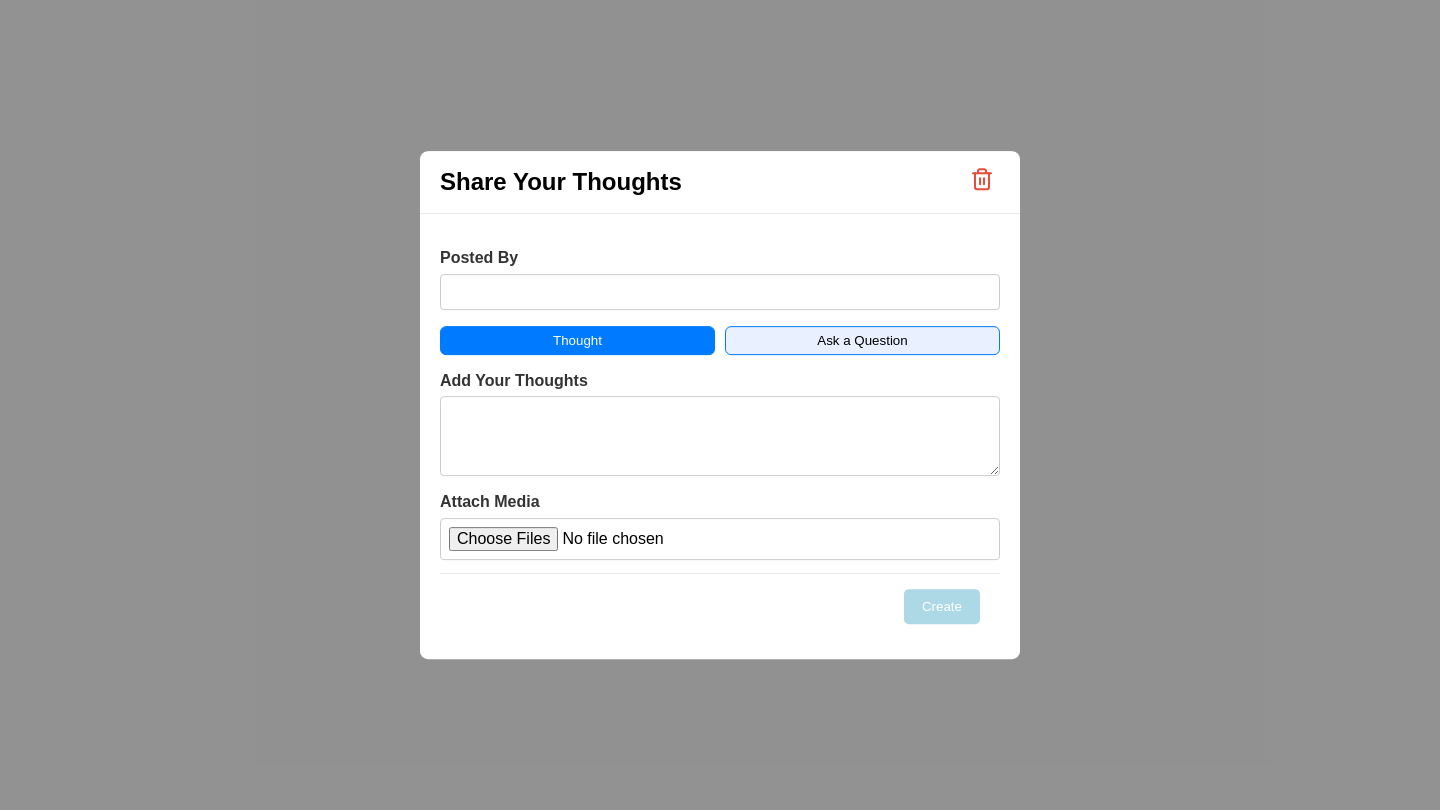
Test: PostModal Component › shows validation error when invalid name is entered
In the field labelled "Posted By": (720, 292) [440,274,1000,310], type "!!!!"
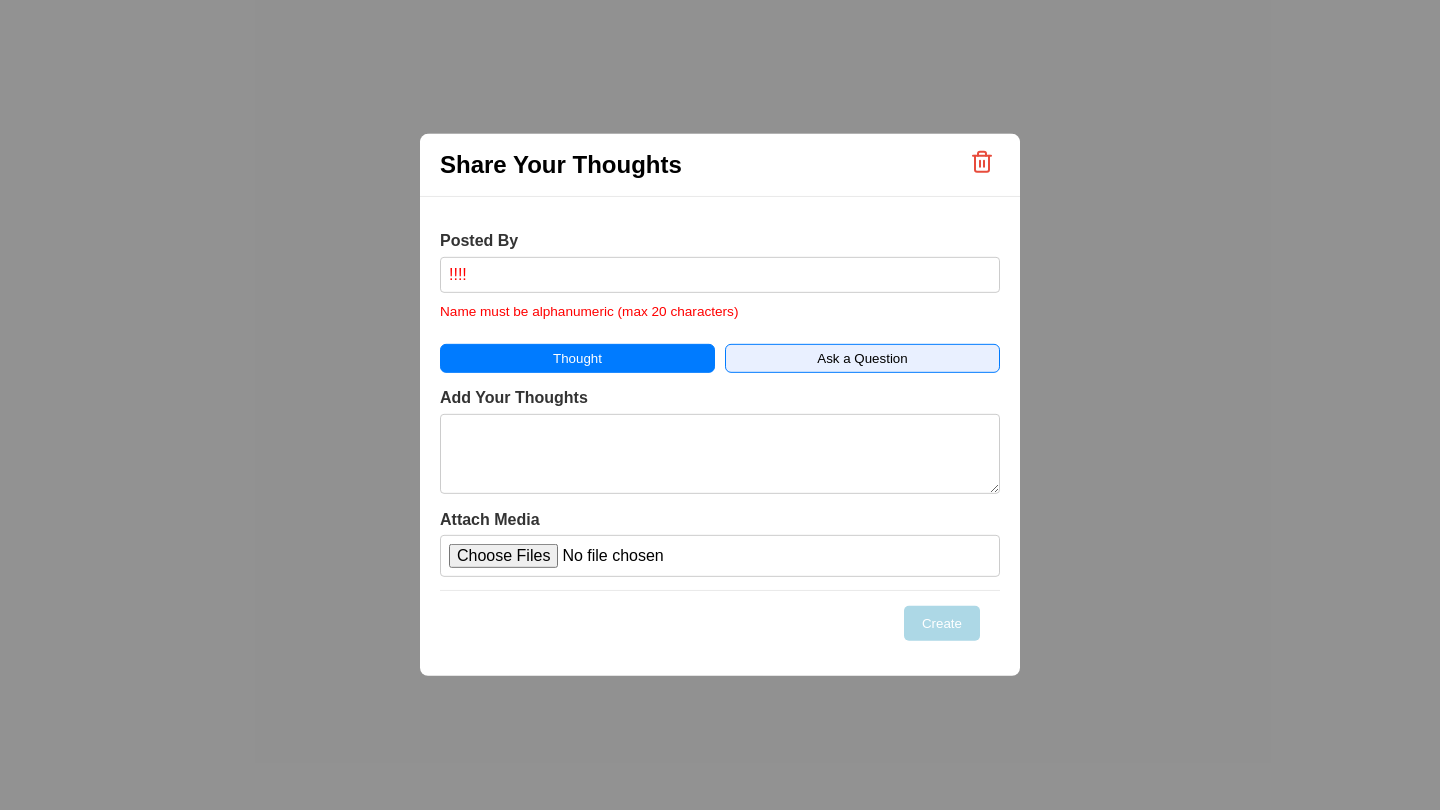
Expected: the text "Name must be alphanumeric (max 20 characters)" is shown, [440,304,738,319]
